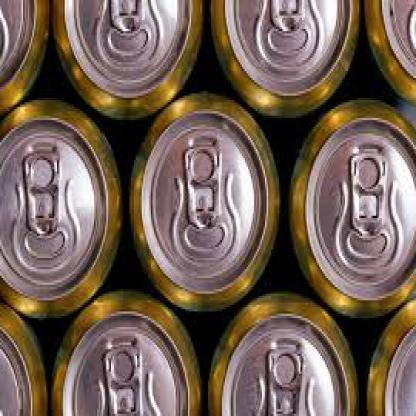METAL: (125, 89, 282, 316), (286, 94, 414, 320), (0, 96, 125, 318), (48, 285, 203, 414), (203, 0, 362, 123), (205, 289, 360, 414), (48, 0, 202, 118), (362, 294, 415, 414), (0, 0, 53, 112), (360, 0, 415, 103), (0, 298, 46, 414)
